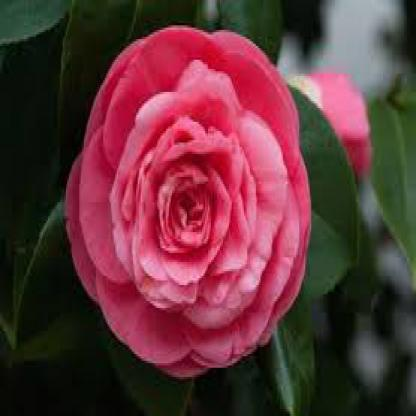Rose-Mawar: (59, 24, 314, 378)
